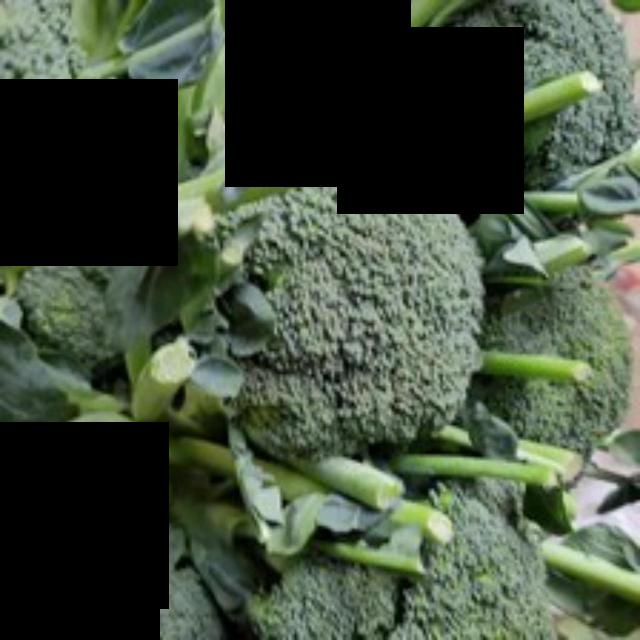broccoli: (136, 105, 482, 461)
